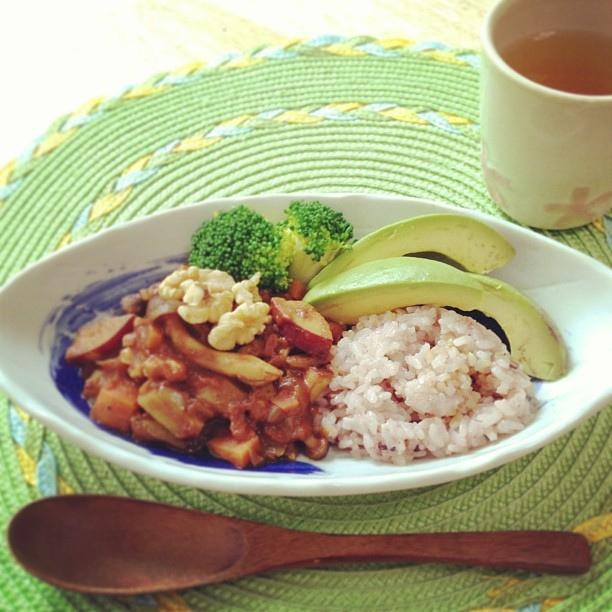avocado: (308, 214, 517, 288), (301, 258, 484, 325), (466, 272, 568, 380)
broccoli: (188, 206, 294, 290), (276, 200, 358, 287)
